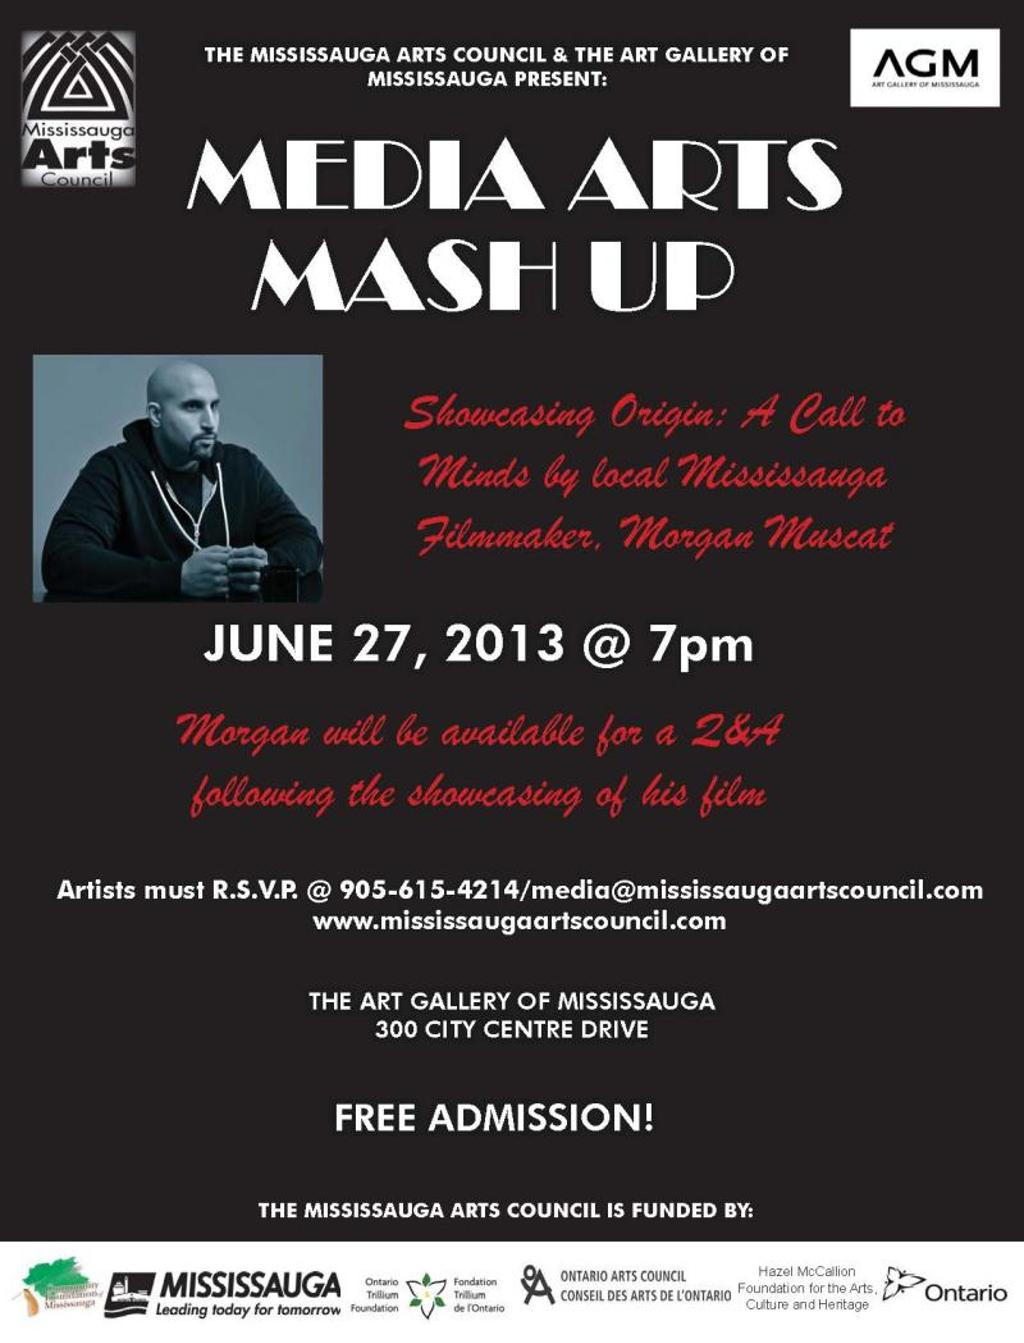face: (159, 369, 219, 459)
